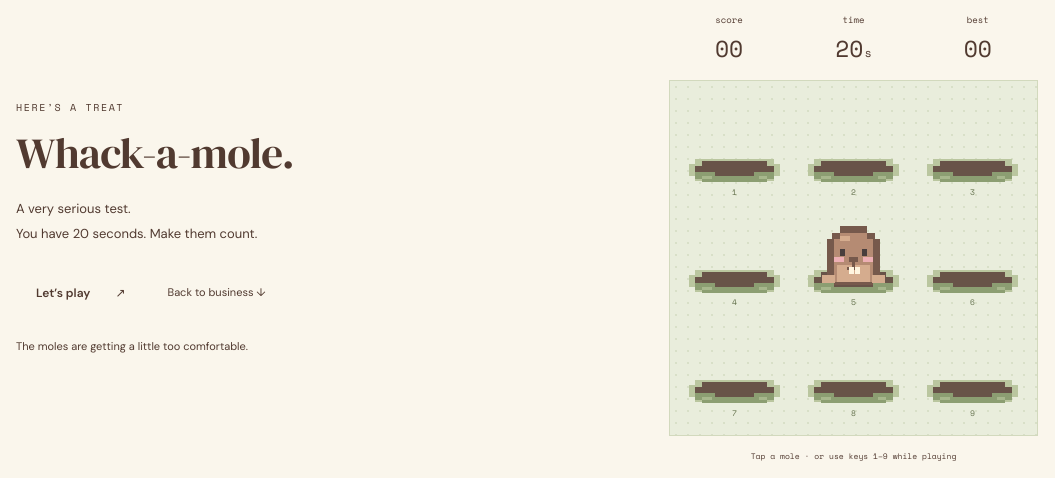
Scenario: the round ends at 20 seconds, saves the best, and can restart cleanly
Later steps or results of the test are not shown.
Click the button "Let’s play ↗": click(81, 294) 16,272 -> 146,316
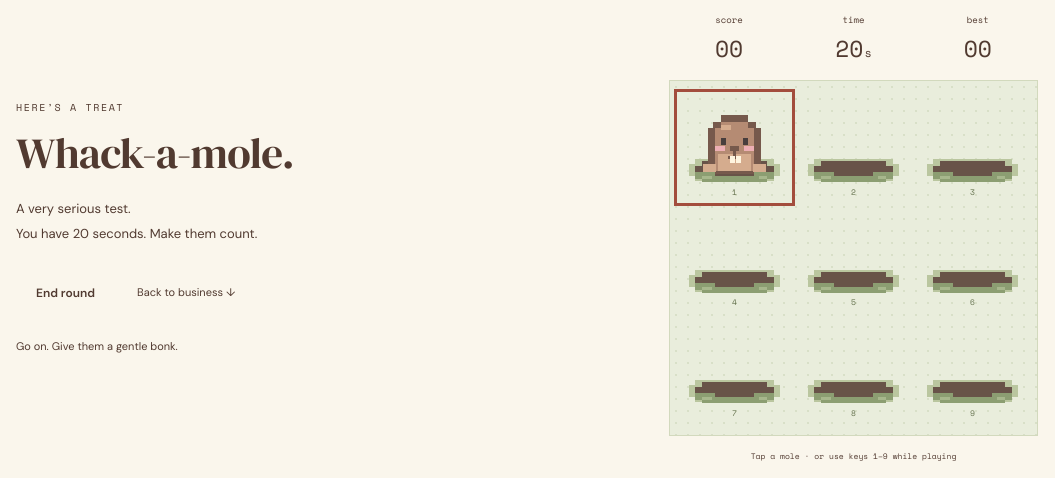
Click the button named "Hole 1, mole here": click(734, 147) 682,97 -> 787,198
Wait 20000 ms
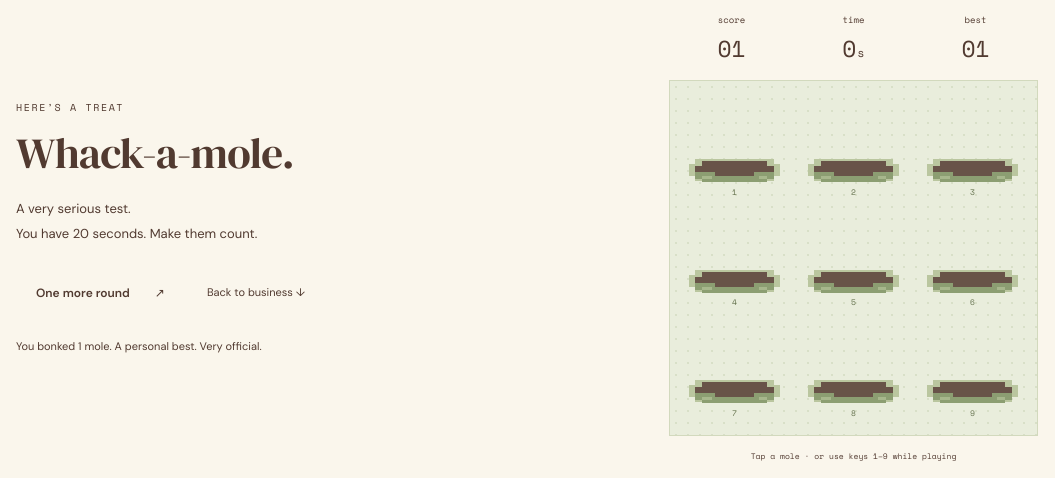
Now the message shows "You bonked 1 mole.", box 16,340 -> 262,354
Now the button named "Hole 1, empty" is disabled, box 682,97 -> 787,198
Click the button "One more round ↗": click(100, 294) 16,272 -> 185,316
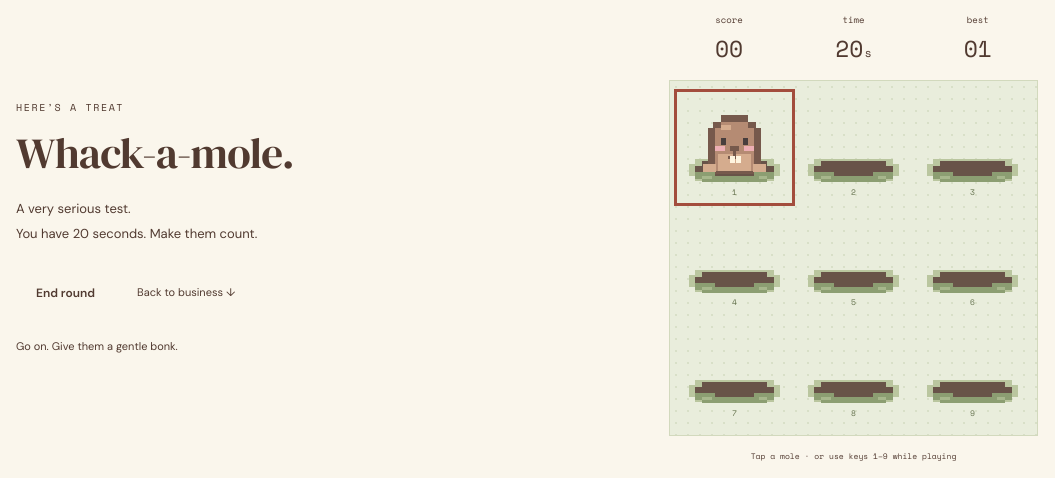
Expected: the button "End round" is enabled, 16,272 -> 115,316
Now the text with test id "mole-score" reads "00", box 715,31 -> 743,65
